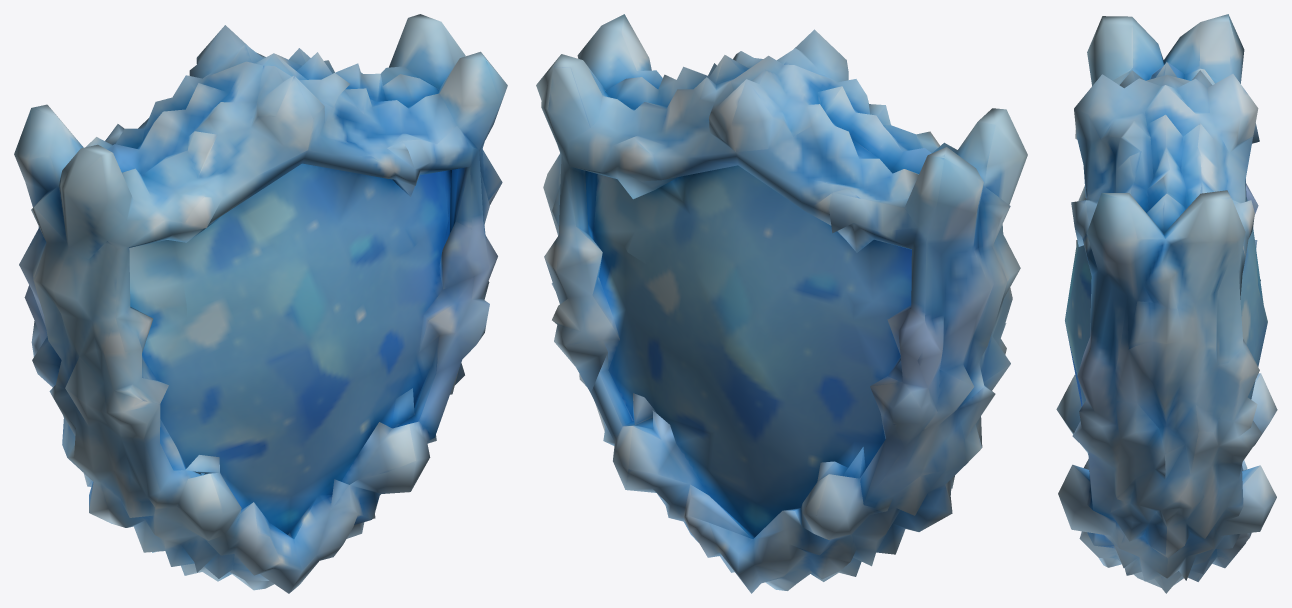
3 renders of one model, left to right at view 1: azimuth 30°, elevation 25°; view 2: azimuth 150°, elevation 25°; view 3: azimuth 270°, elevation 25°, orthographic. The views are drawn at different scales.
Parts seen in each view (by area): view 1: gem-armor; view 2: gem-armor; view 3: gem-armor.
Part boxes in pixels (x1=…): gem-armor: x1=14, y1=14, x2=507, y2=593; gem-armor: x1=536, y1=14, x2=1027, y2=593; gem-armor: x1=1056, y1=14, x2=1277, y2=593.
Size of the model in its own units: 0.28 by 0.3147 by 0.1226.
1 material, 1 textured.
